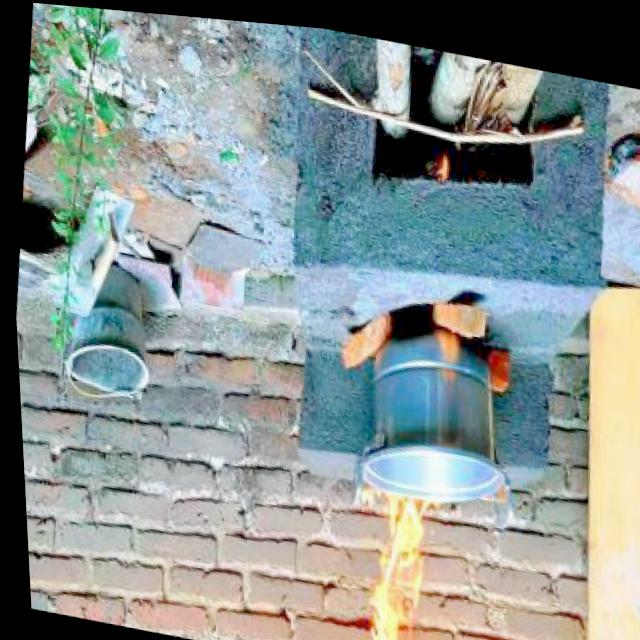Fire: (333, 454, 446, 640), (423, 311, 468, 390), (429, 140, 454, 189)
